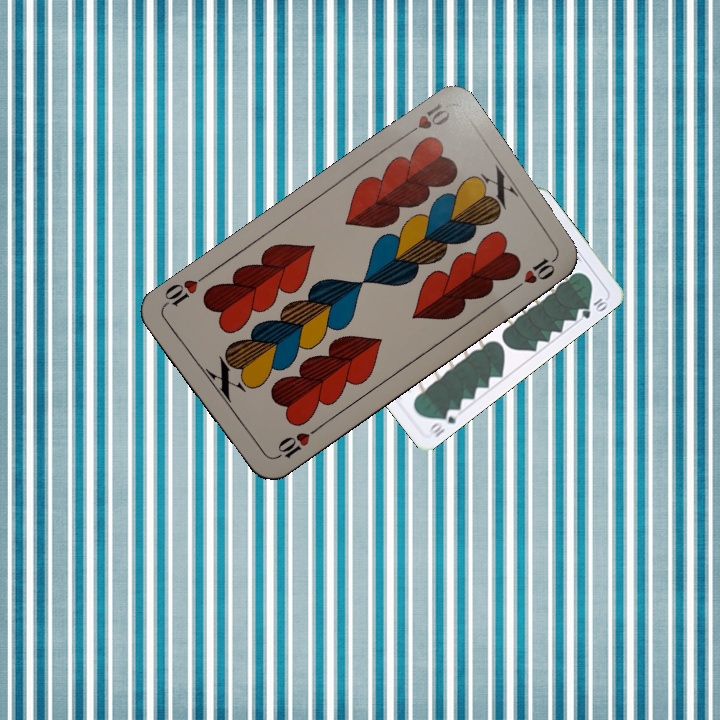G10: (426, 404, 462, 440)
H10: (398, 99, 453, 141), (268, 423, 321, 463)
